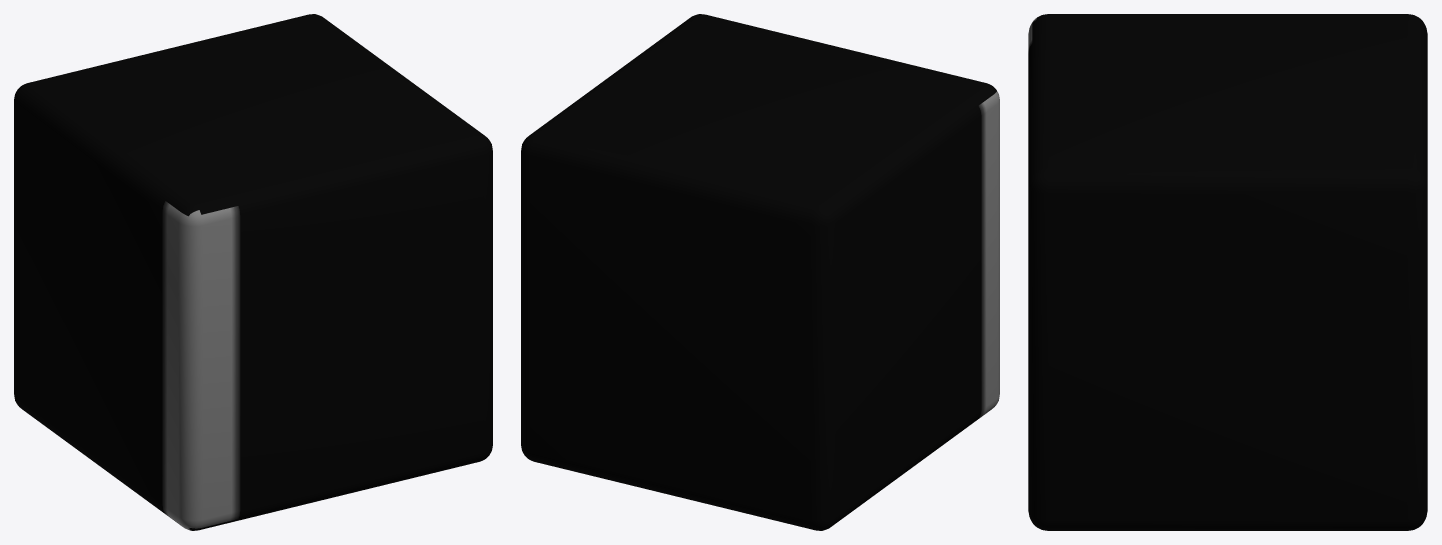
3 views of the same model, side by side, from view 1: azimuth 30°, elevation 25°; view 2: azimuth 150°, elevation 25°; view 3: azimuth 270°, elevation 25° (orthographic). The views are drawn at different scales.
Parts seen in each view (by area): view 1: Cube_Finished_Cube.001; view 2: Cube_Finished_Cube.001; view 3: Cube_Finished_Cube.001.
Boxes of the visible parts, x1,y1,x2,y2 form: Cube_Finished_Cube.001: [14, 14, 492, 530]; Cube_Finished_Cube.001: [521, 14, 999, 530]; Cube_Finished_Cube.001: [1028, 14, 1427, 530].
Size of the model in its own units: 2 by 2 by 2.
